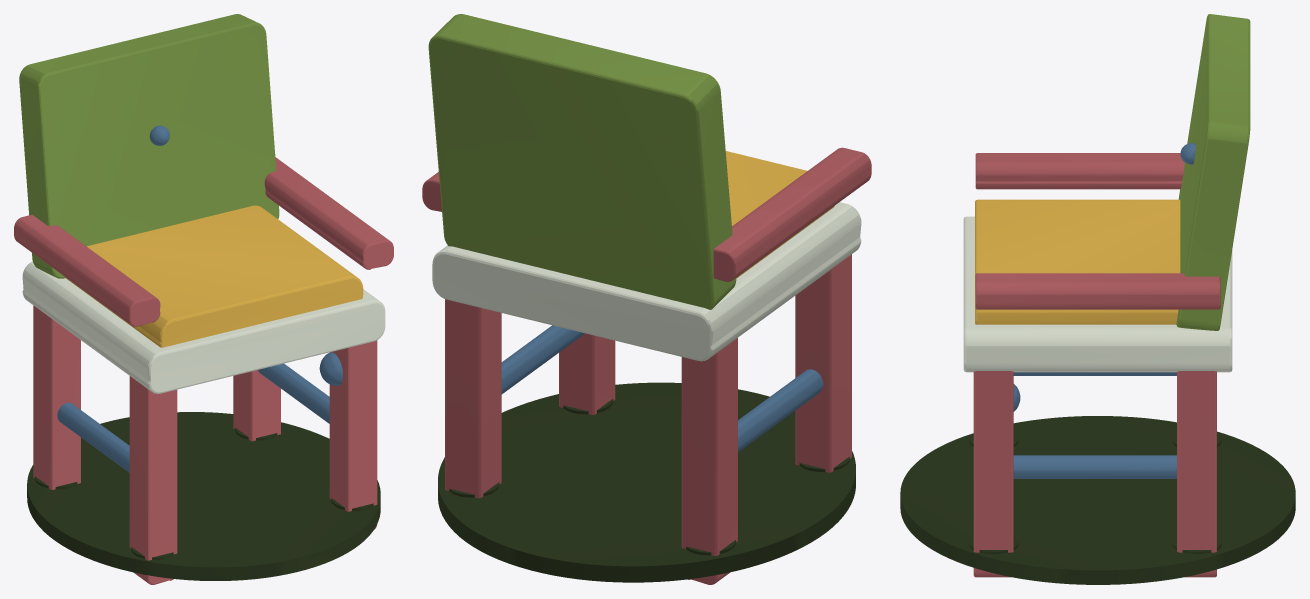
The model's file is 0951_农业科技图鉴_间作田.glb.
3 views of the same model, side by side, from view 1: azimuth 30°, elevation 25°; view 2: azimuth 150°, elevation 25°; view 3: azimuth 270°, elevation 25° (orthographic). The views are drawn at different scales.
Visible parts, largest first — view 1: card_0951; view 2: card_0951; view 3: card_0951.
Part boxes in pixels (x1=…): card_0951: x1=14, y1=14, x2=393, y2=584; card_0951: x1=422, y1=14, x2=871, y2=584; card_0951: x1=900, y1=14, x2=1295, y2=584.
Bounding box in the file's own units: 0.7313 × 1 × 0.7905.
